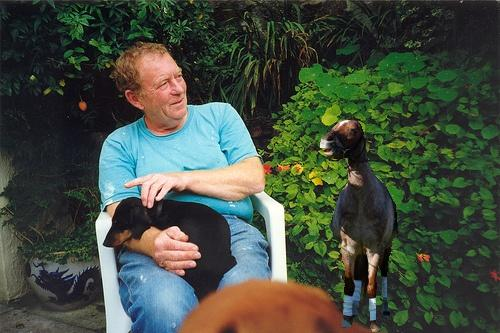tampered: (321, 121, 398, 332)
